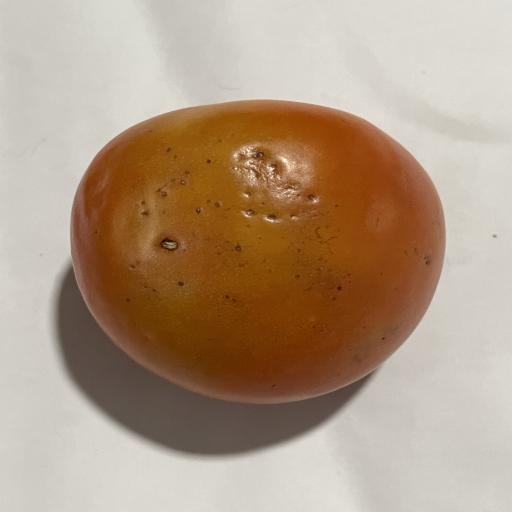unripe: (71, 101, 445, 403)
